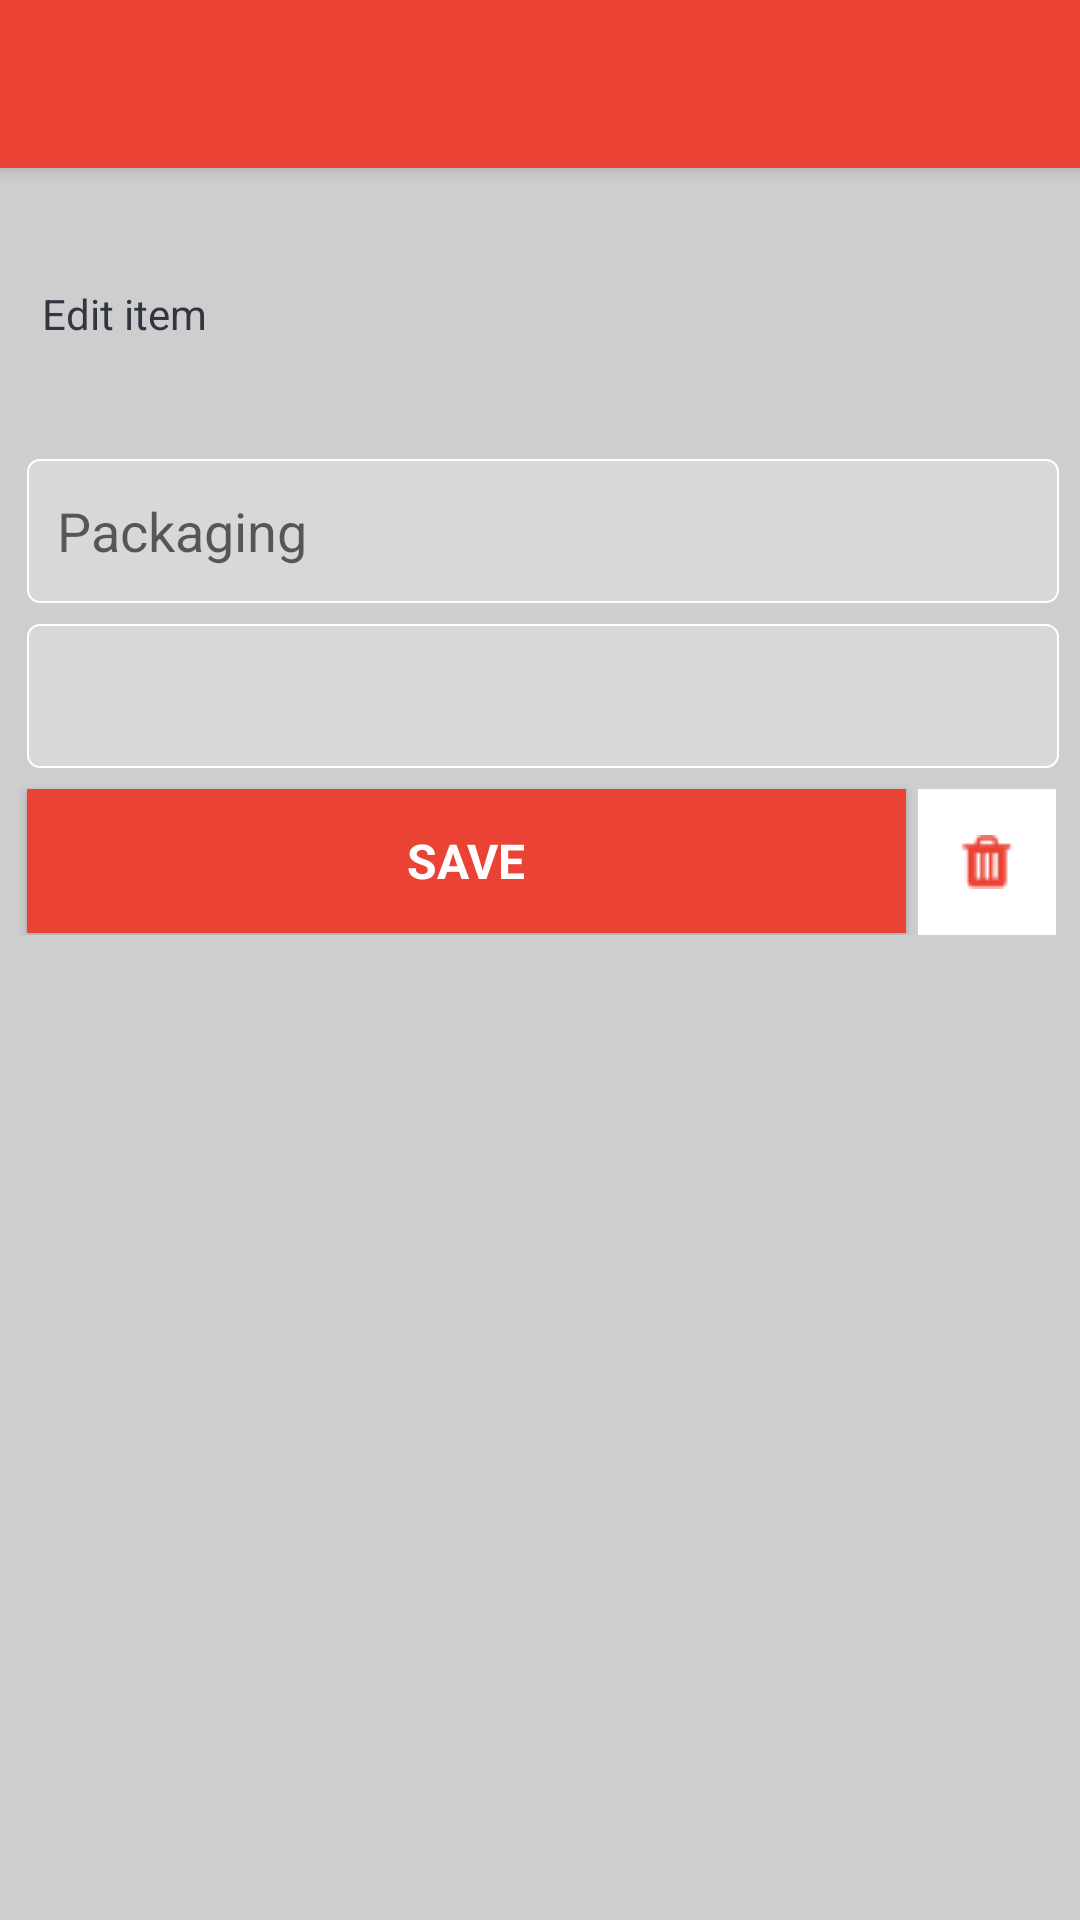

Screen size 1080px x 1920px. Icon name, then its center in pixels as (x=x, y=y):
bin: (x=987, y=862)
